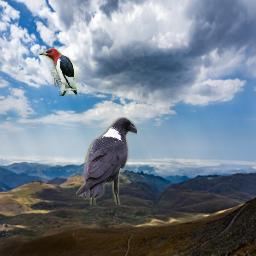Crow: (76, 117, 137, 205)
Woodpecker: (39, 48, 77, 96)
